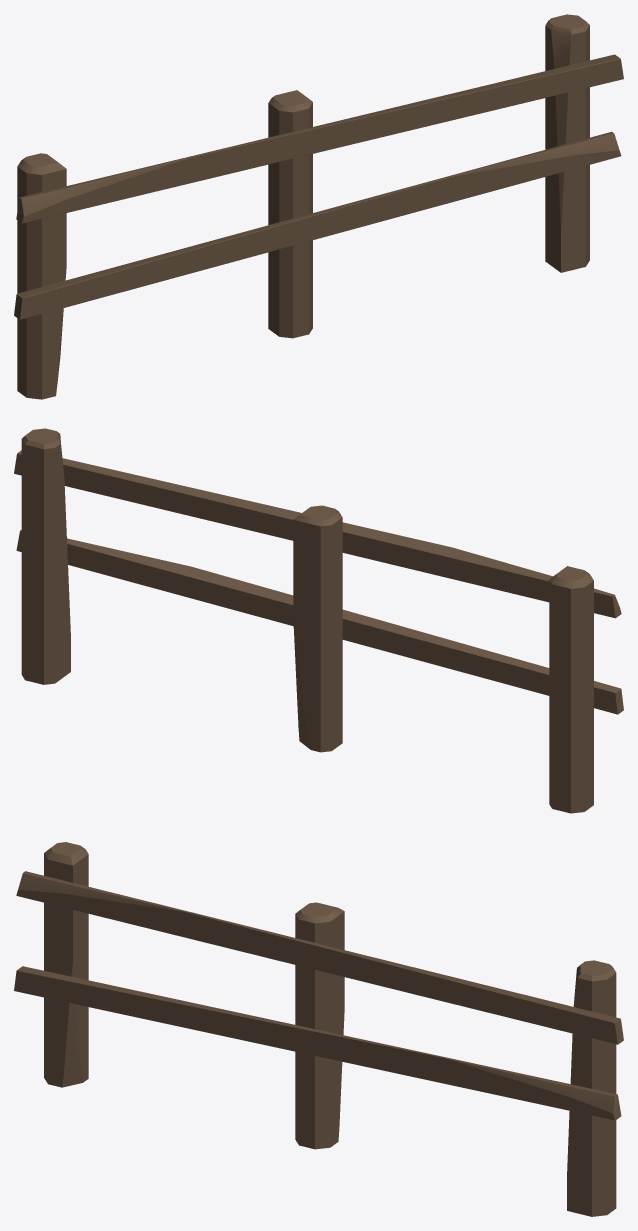
Rendered from Fence-M00A.fbx.
The picture shows the model from 3 angles, top to bottom: view 1: azimuth 30°, elevation 25°; view 2: azimuth 150°, elevation 25°; view 3: azimuth 330°, elevation 25°; orthographic projection.
Visible parts, largest first — view 1: Fence-M00A; view 2: Fence-M00A; view 3: Fence-M00A.
Part boxes in pixels (x1,y1,x2,y2): Fence-M00A: (14,14,623,399); Fence-M00A: (14,428,623,813); Fence-M00A: (14,842,623,1216).
Bounding box in the file's own units: 292 × 110 × 21.73.
